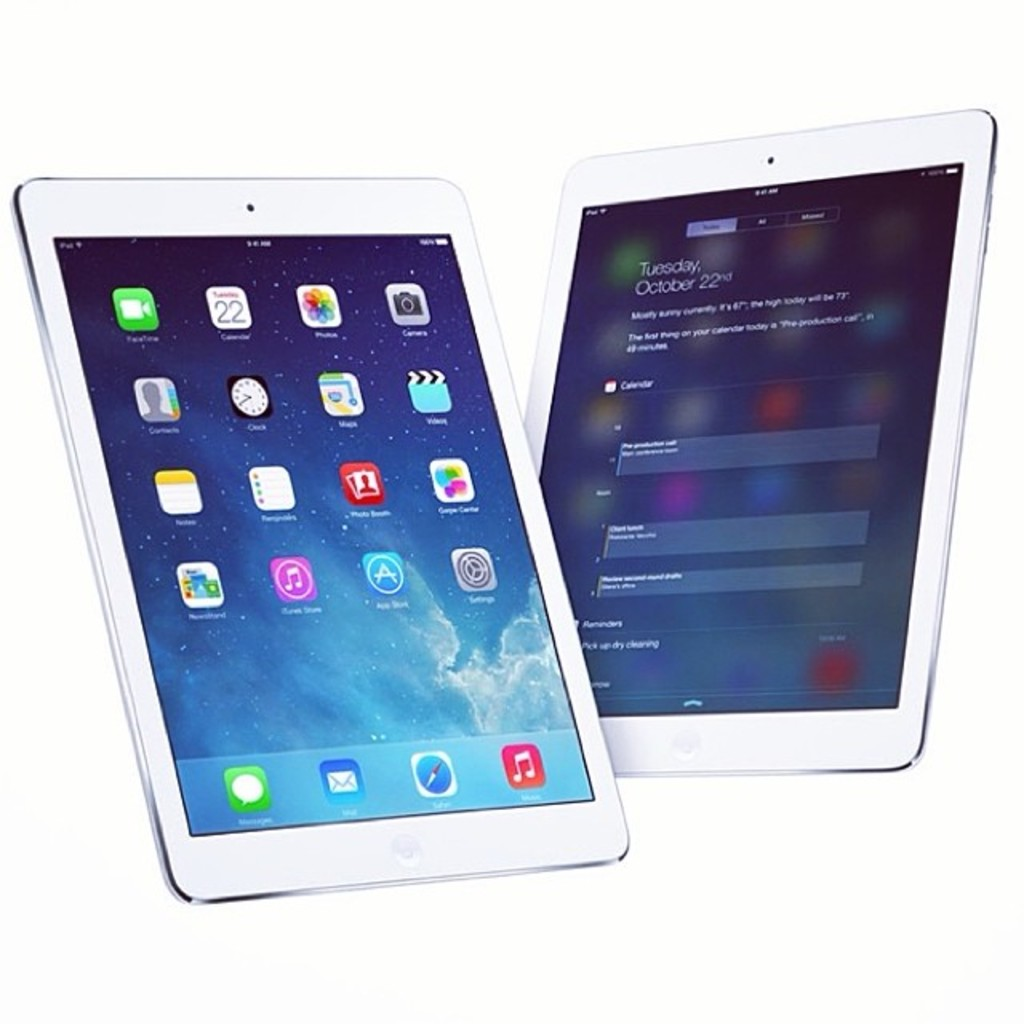Mobile-phone: (19, 176, 634, 912), (526, 104, 996, 774)
